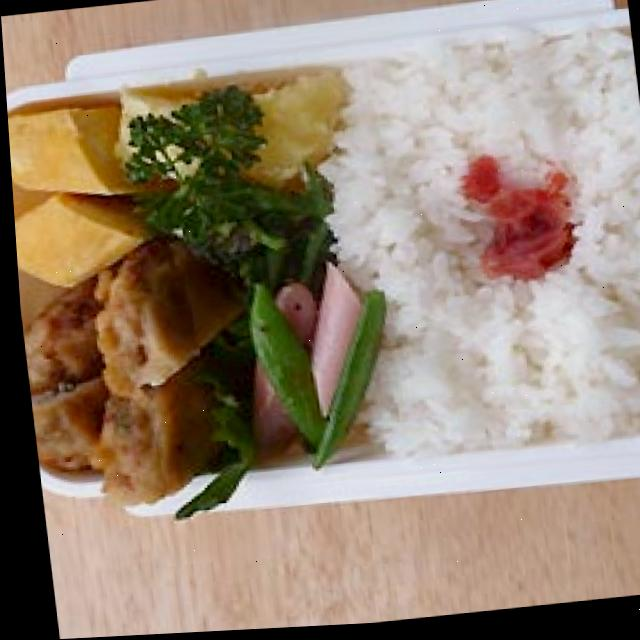米饭主食: (313, 4, 640, 482)
